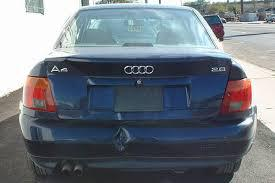rear-bumper-dent: (53, 117, 224, 170)
